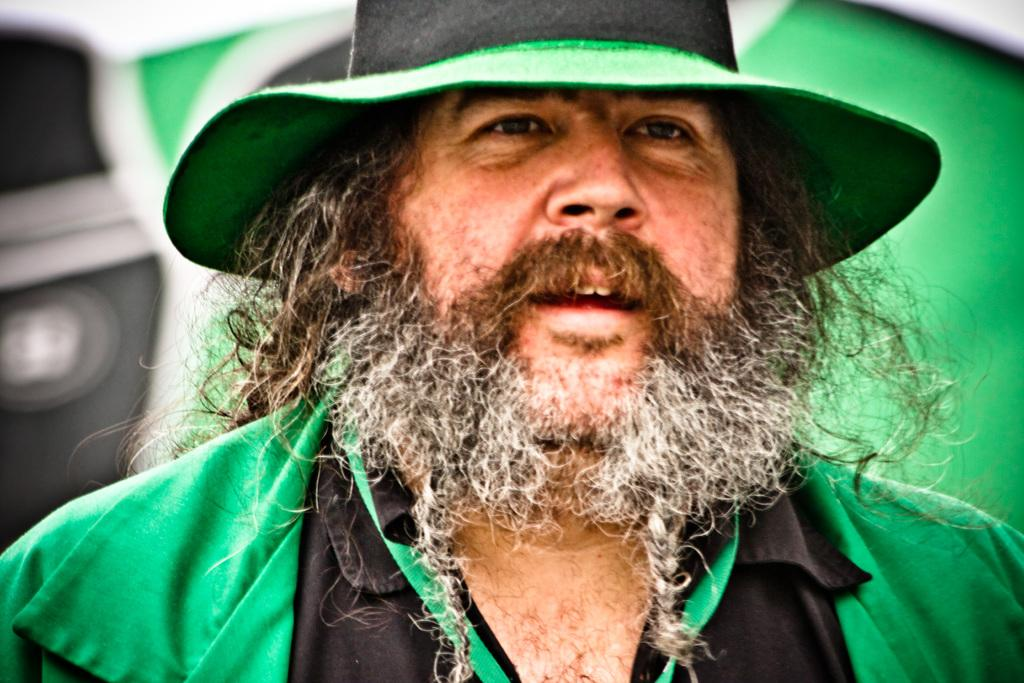Hat: (163, 0, 945, 279)
